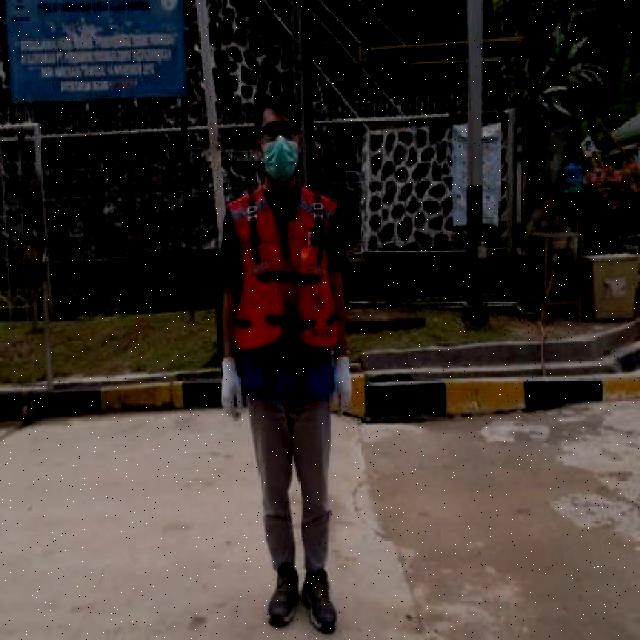Boots: (299, 568, 339, 634), (267, 564, 301, 632)
Gloves: (221, 355, 244, 423), (330, 356, 353, 418)
Mask: (232, 242, 340, 352)
